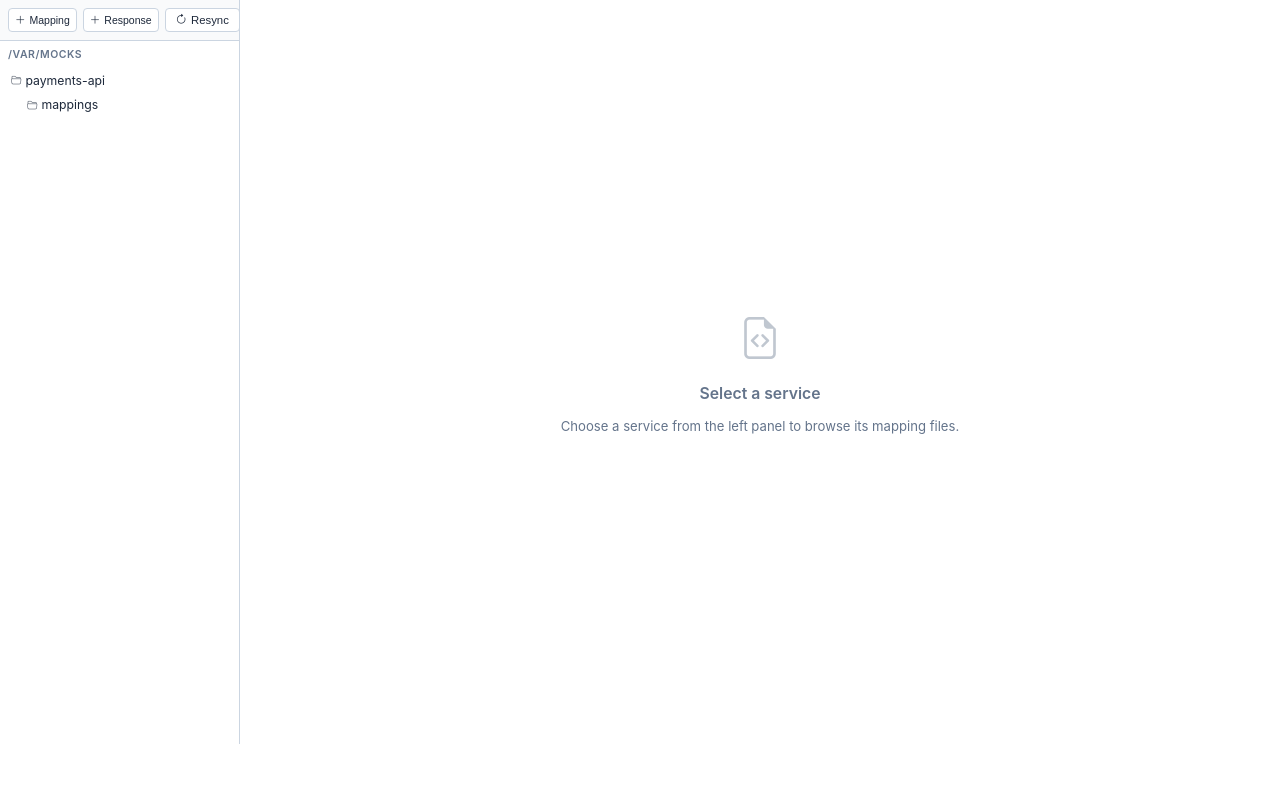
Test: MappingsPage — empty state when service is selected but no files › shows 'No mappings yet' when service is selected with no files
Note: Click service folder to select it
Click the text "payments-api" at [65, 80], box top-left (25, 73), bottom-right (105, 88)
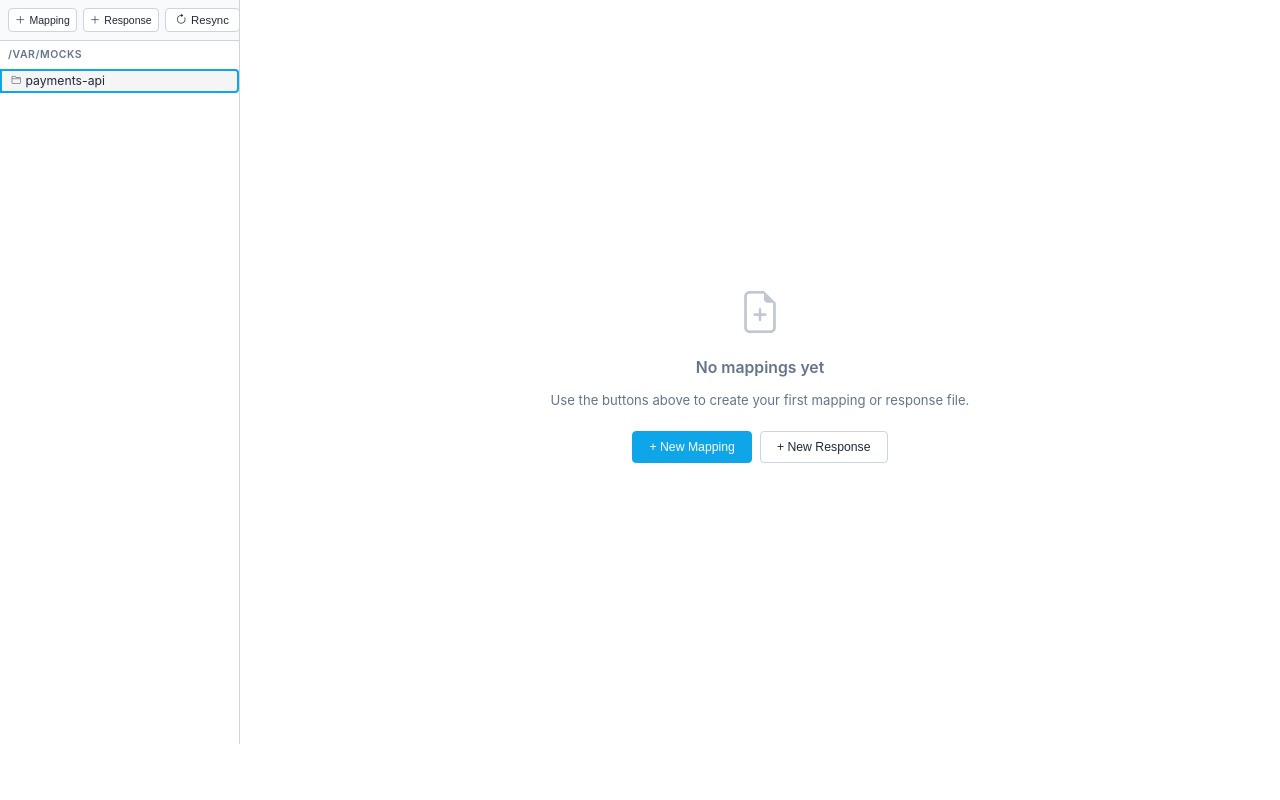
Check: the heading "No mappings yet" is shown, box top-left (696, 356), bottom-right (824, 379)
Check: the button with test id "mappings-btn-new-mapping-empty" is shown, box top-left (632, 431), bottom-right (752, 463)
Check: the button with test id "mappings-btn-new-response-empty" is shown, box top-left (760, 431), bottom-right (888, 463)
